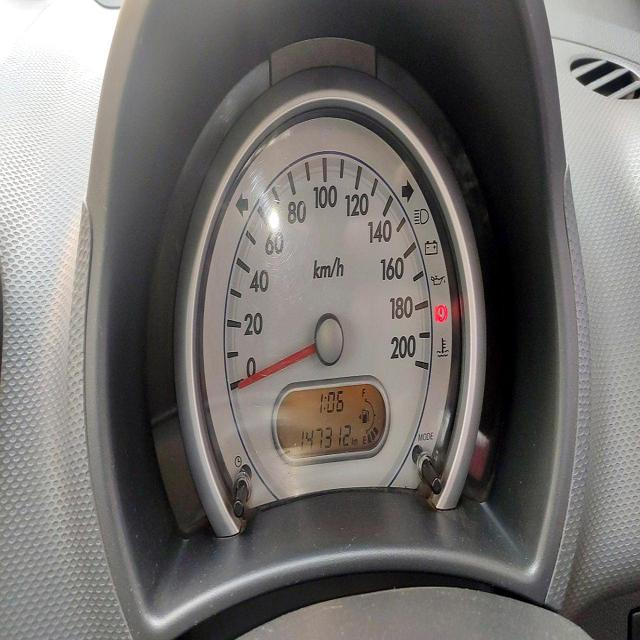odometer: (299, 423, 352, 452)
